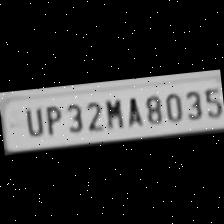0: (160, 88, 183, 122)
2: (80, 95, 102, 131)
3: (61, 98, 83, 134), (180, 84, 202, 120)
5: (200, 82, 224, 117)
8: (140, 89, 162, 125)
A: (122, 91, 144, 127)
M: (100, 93, 124, 129)
P: (40, 101, 63, 136)
U: (18, 103, 42, 136)
